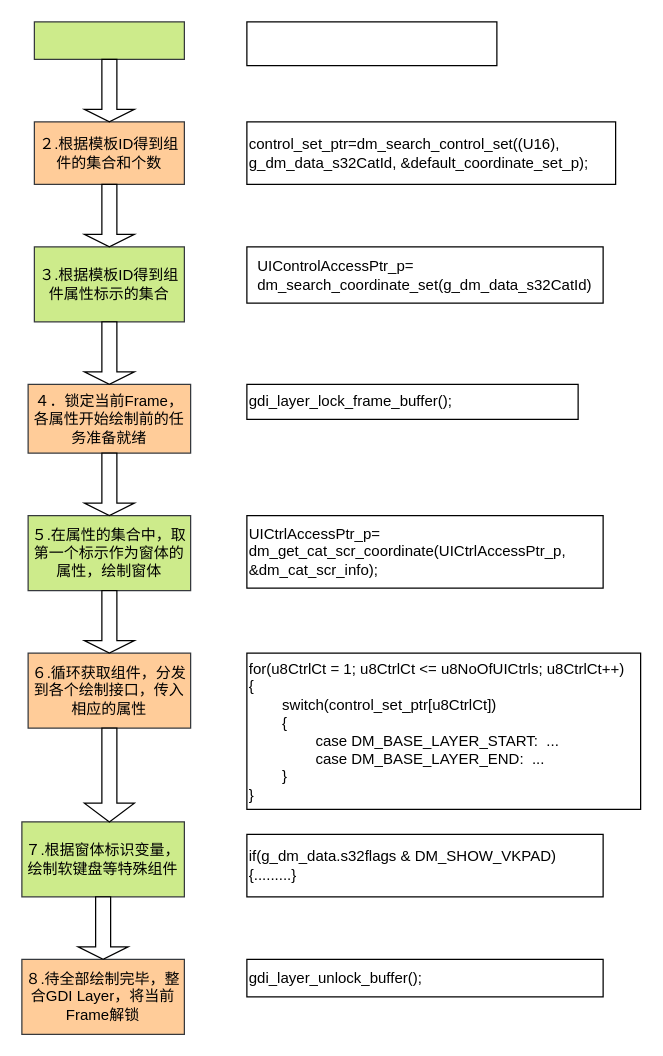
Some shapes in this 663 by 1056 pixel diagram are drawn without their labels. Each missing label, with the centre of its shape:
"1.获取窗体模板ID" belongs at point 108,40.
"g_dm_data_s32CatId" belongs at point 371,43.
